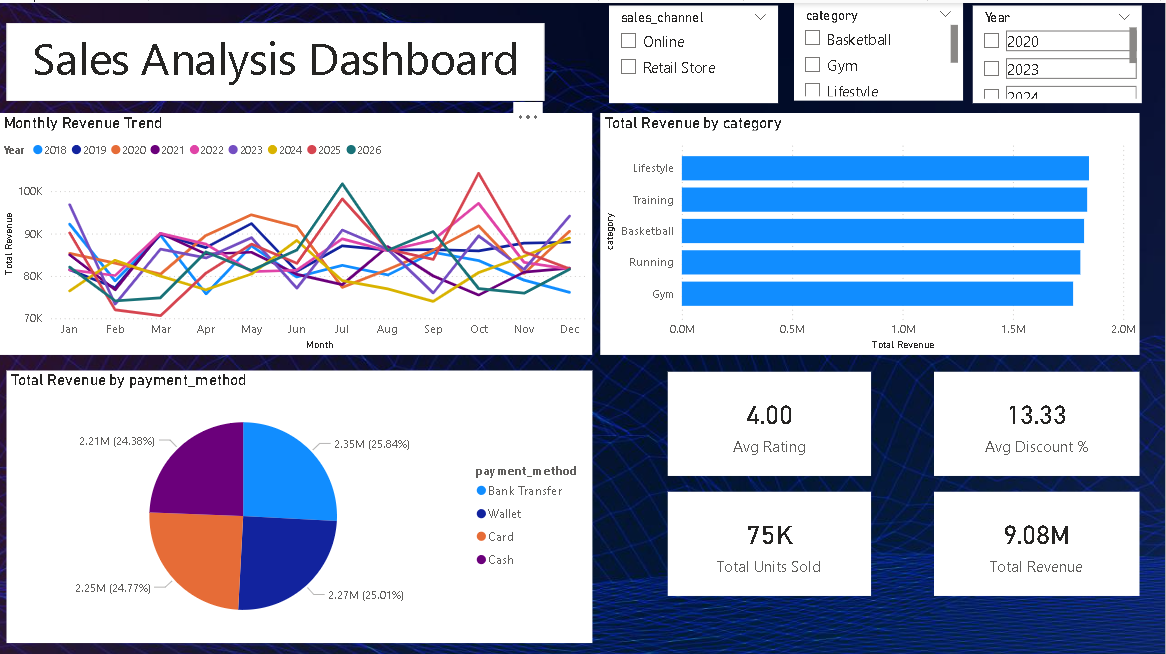

Layout of this report page (visuals, bound fields, positions):
{"tool":"powerbi","page":{"name":"Page 1","canvas":[1280,720],"ordinal":0},"visuals":[{"type":"lineChart","title":"Monthly Revenue Trend","fields":{"Category":["DateTable.Month"],"Y":["final_cleaned_sales_data.Total Revenue"],"Series":["DateTable.Year"]},"box":[0,120.6,651.5,265.4],"z":0},{"type":"card","fields":{"Values":["final_cleaned_sales_data.Total Revenue"]},"box":[1026.7,536.9,225.6,114.6],"z":1000},{"type":"clusteredBarChart","fields":{"Category":["final_cleaned_sales_data.category"],"Y":["final_cleaned_sales_data.Total Revenue"]},"box":[659.9,120.6,592.4,265.4],"z":2000},{"type":"pieChart","fields":{"Category":["final_cleaned_sales_data.payment_method"],"Y":["final_cleaned_sales_data.Total Revenue"]},"box":[8.4,403,643,299.2],"z":3000},{"type":"card","fields":{"Values":["final_cleaned_sales_data.Total Units Sold"]},"box":[733.5,536.9,223.2,114.6],"z":4000},{"type":"card","fields":{"Values":["final_cleaned_sales_data.Avg Discount %"]},"box":[1026.7,404.2,225.6,114.6],"z":5000},{"type":"card","fields":{"Values":["final_cleaned_sales_data.Avg Rating"]},"box":[733.5,404.2,223.2,114.6],"z":6000},{"type":"slicer","fields":{"Values":["DateTable.Year"]},"box":[1068.4,2.2,185.2,107],"z":7000},{"type":"slicer","fields":{"Values":["final_cleaned_sales_data.category"]},"box":[873,0.4,185.2,107],"z":8000},{"type":"slicer","fields":{"Values":["final_cleaned_sales_data.sales_channel"]},"box":[669.6,2.7,185.2,107],"z":9000},{"type":"textbox","box":[8.2,22,590.1,85.1],"z":10000}]}

Visuals, with their boxes in screenshot pixels (x1, y1, x2, y2), scaled from the page's 1280x720 canvas onto the 1166x654 screenshot:
"Monthly Revenue Trend" lineChart: (left=0, top=110, right=593, bottom=351)
card - final_cleaned_sales_data.Total Revenue: (left=935, top=488, right=1141, bottom=592)
clusteredBarChart - final_cleaned_sales_data.category x final_cleaned_sales_data.Total Revenue: (left=601, top=110, right=1141, bottom=351)
pieChart - final_cleaned_sales_data.payment_method x final_cleaned_sales_data.Total Revenue: (left=8, top=366, right=593, bottom=638)
card - final_cleaned_sales_data.Total Units Sold: (left=668, top=488, right=871, bottom=592)
card - final_cleaned_sales_data.Avg Discount %: (left=935, top=367, right=1141, bottom=471)
card - final_cleaned_sales_data.Avg Rating: (left=668, top=367, right=871, bottom=471)
slicer - DateTable.Year: (left=973, top=2, right=1142, bottom=99)
slicer - final_cleaned_sales_data.category: (left=795, top=0, right=964, bottom=98)
slicer - final_cleaned_sales_data.sales_channel: (left=610, top=2, right=779, bottom=100)
textbox: (left=7, top=20, right=545, bottom=97)
